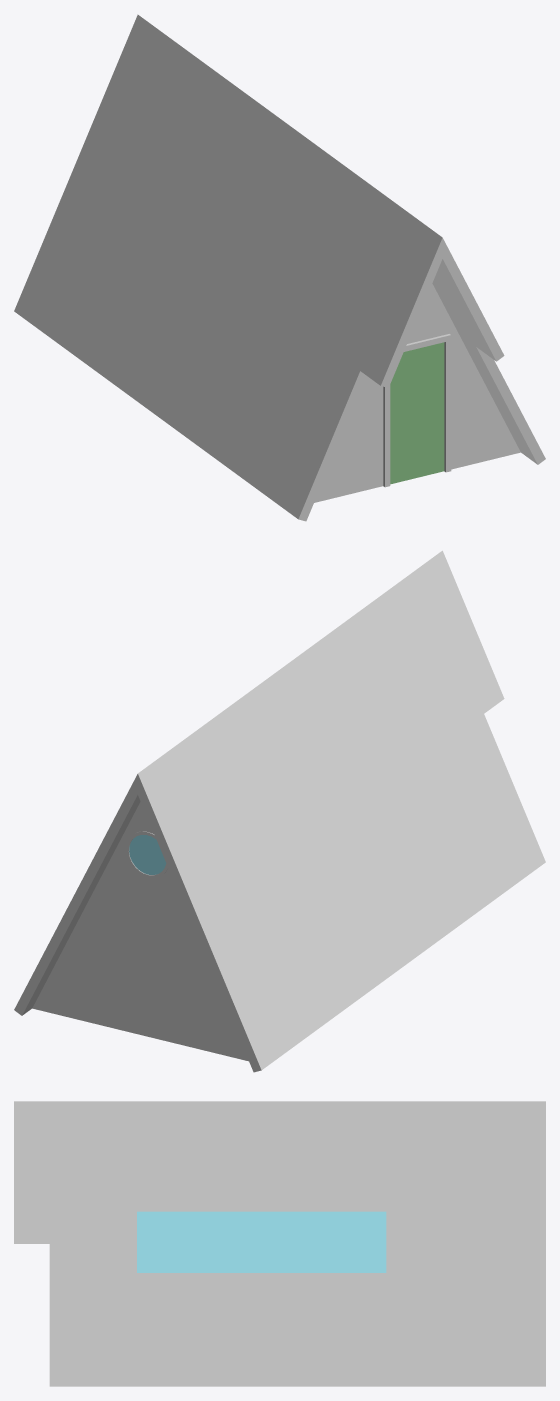
The model's file is house.fbx.
3 renders of one model, top to bottom at view 1: azimuth 30°, elevation 25°; view 2: azimuth 150°, elevation 25°; view 3: azimuth 270°, elevation 25°, orthographic. The views are drawn at different scales.
Parts seen in each view (by area): view 1: Model; view 2: Model; view 3: Model.
Part boxes in pixels (box(x1,y1,x2,y2)): Model: box(14, 14, 545, 521); Model: box(14, 550, 545, 1072); Model: box(14, 1101, 545, 1386).
Bounding box in the file's own units: 165 × 172 × 352.
